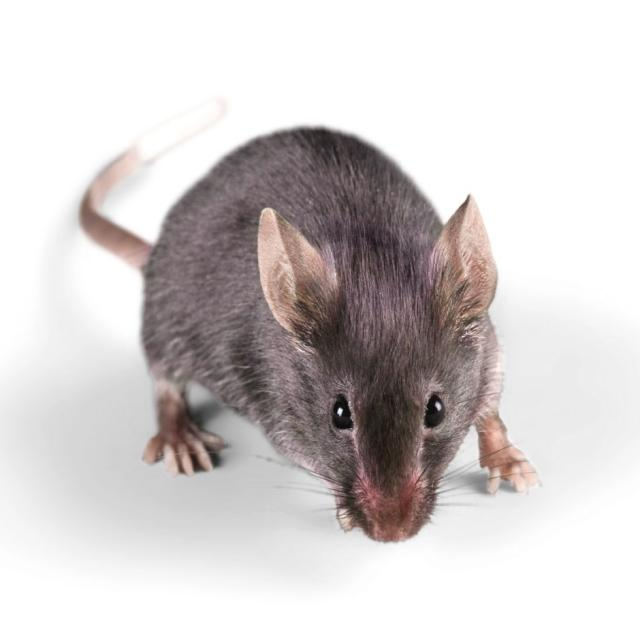rat: (73, 107, 556, 549)
